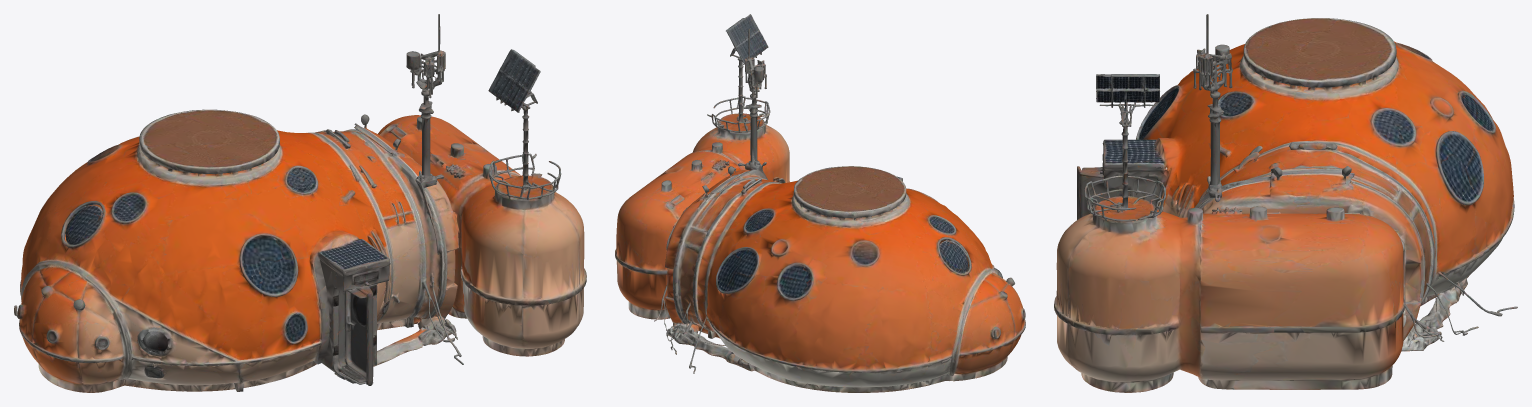
Rendered from mars_hab.glb.
3 renders of one model, left to right at view 1: azimuth 30°, elevation 25°; view 2: azimuth 150°, elevation 25°; view 3: azimuth 270°, elevation 25°, orthographic. The views are drawn at different scales.
Visible parts, largest first — view 1: mars_hab; view 2: mars_hab; view 3: mars_hab.
Part boxes in pixels (bbox=[...]): mars_hab: bbox=[14, 14, 586, 392]; mars_hab: bbox=[615, 14, 1025, 392]; mars_hab: bbox=[1054, 14, 1517, 392].
Size of the model in its own units: 8 by 5.07 by 6.34.
1 material, 1 textured.
